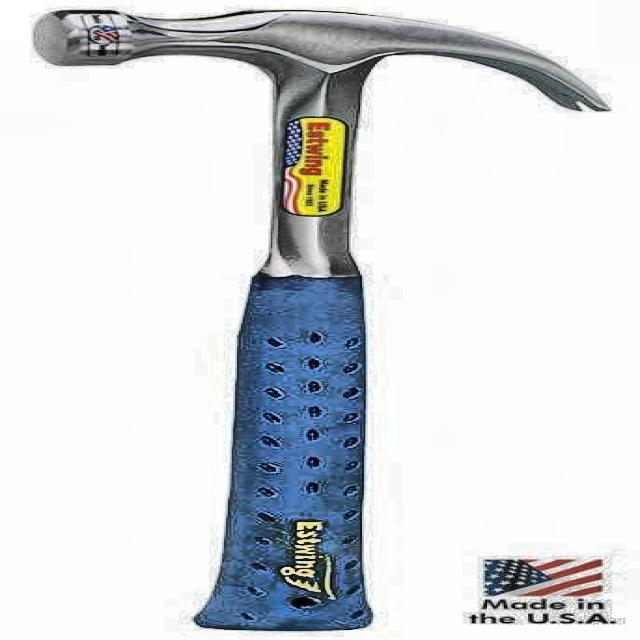hammer: (33, 10, 615, 634)
